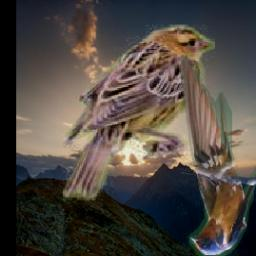Sparrow: (63, 25, 215, 201)
Swallow: (181, 55, 256, 256)
